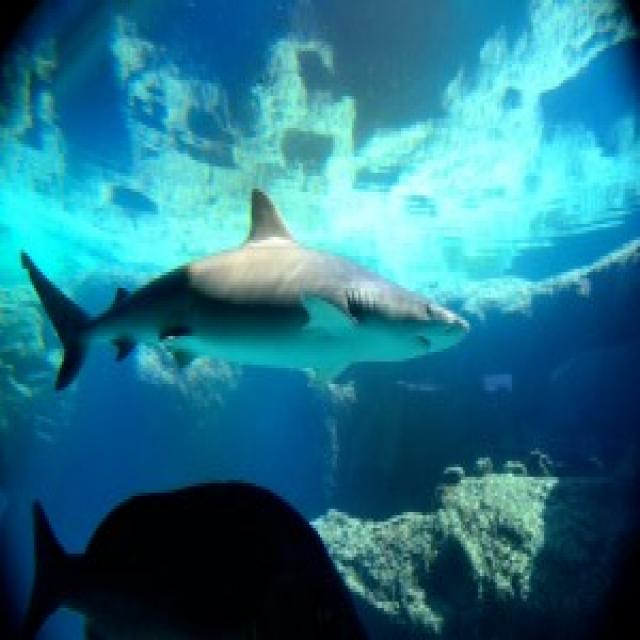Shark: (11, 187, 473, 392)
